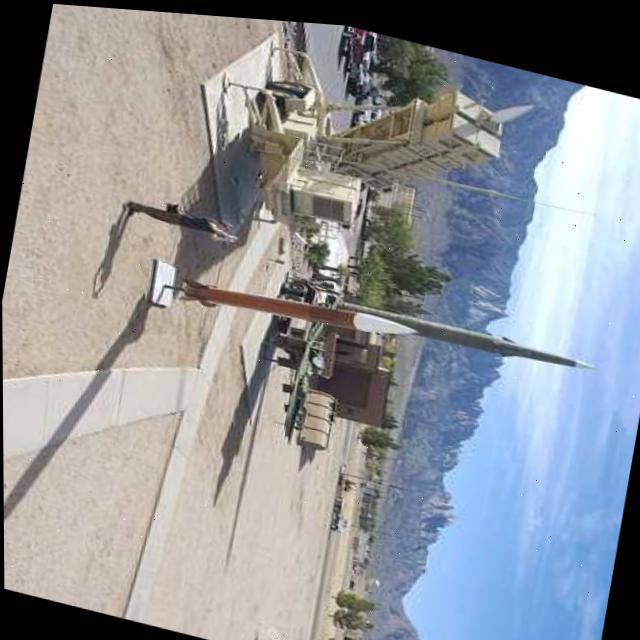missile: (164, 260, 423, 362), (328, 284, 603, 378)
